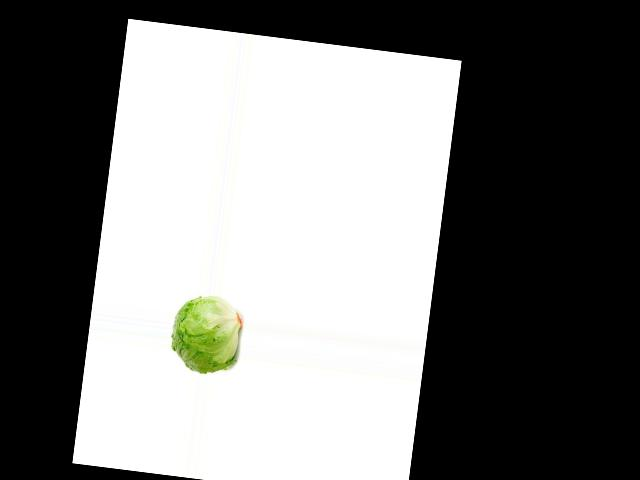lettuce: (167, 296, 242, 376)
